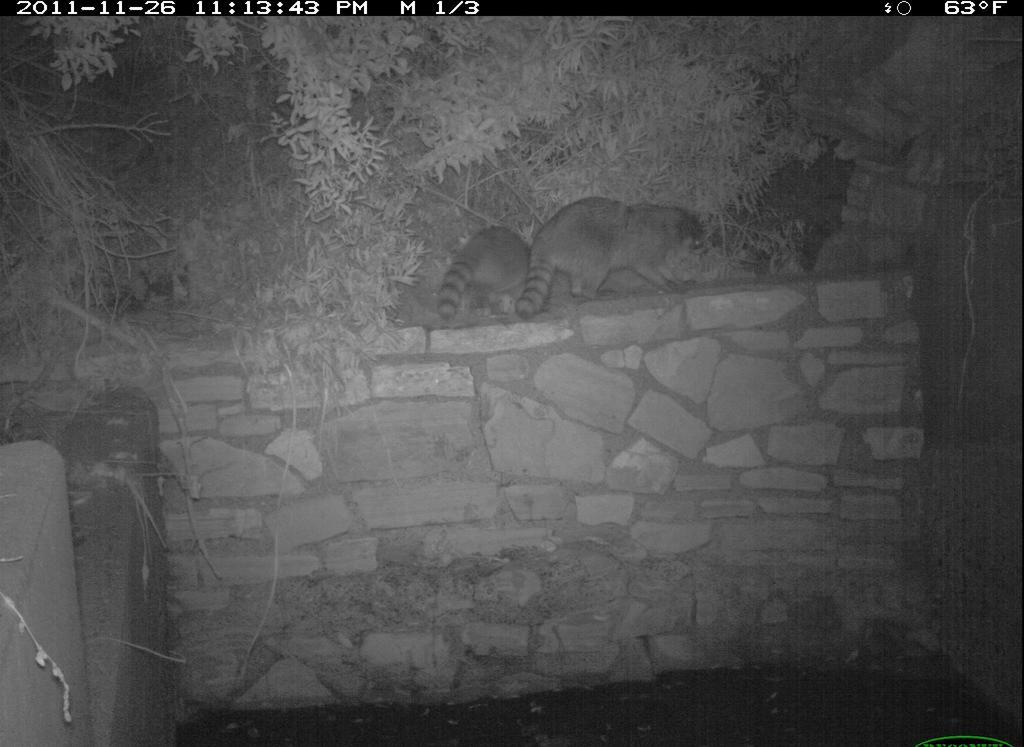raccoon: (513, 199, 711, 331), (431, 222, 533, 327)
